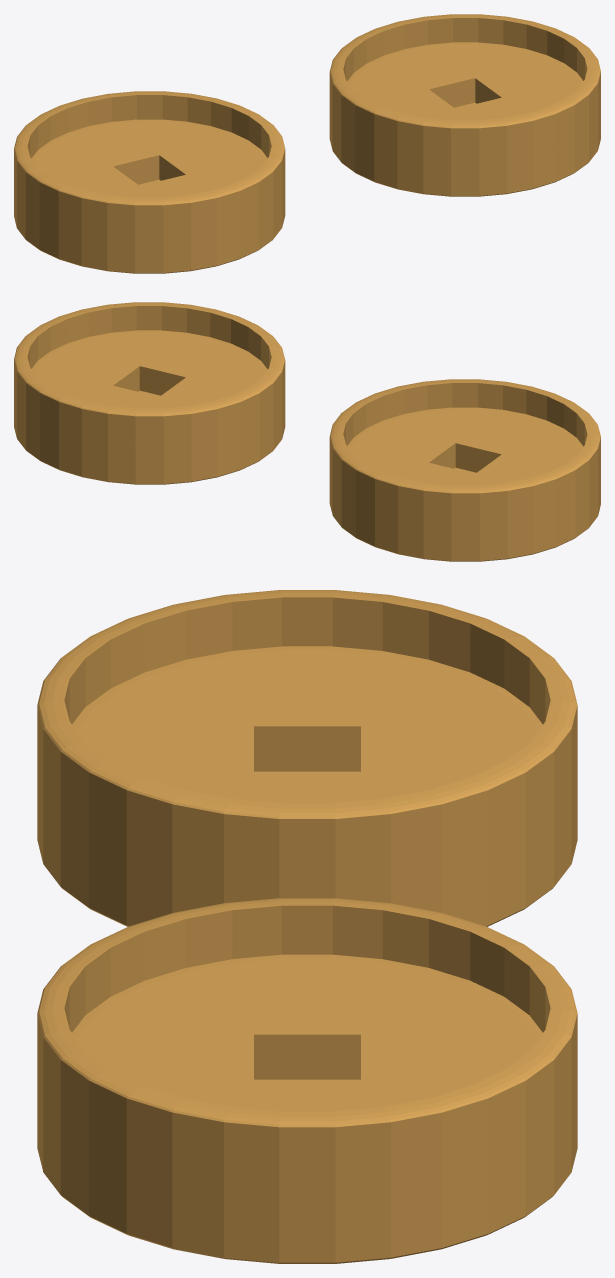
The model's file is RadiOpi Buttons Make.glb.
3 views of the same model, one above another, from view 1: azimuth 30°, elevation 25°; view 2: azimuth 150°, elevation 25°; view 3: azimuth 270°, elevation 25° (orthographic). The views are drawn at different scales.
Visible parts, largest first — view 1: Mesh_Mesh_head_geo.001_lambert2SG.001; view 2: Mesh_Mesh_head_geo.001_lambert2SG.001; view 3: Mesh_Mesh_head_geo.001_lambert2SG.001.
Part boxes in pixels (left/top/right/bottom): Mesh_Mesh_head_geo.001_lambert2SG.001: left=14, top=14, right=600, bottom=273; Mesh_Mesh_head_geo.001_lambert2SG.001: left=14, top=302, right=600, bottom=561; Mesh_Mesh_head_geo.001_lambert2SG.001: left=37, top=590, right=577, bottom=1263.
Size of the model in its own units: 47 by 5.99 by 20.
